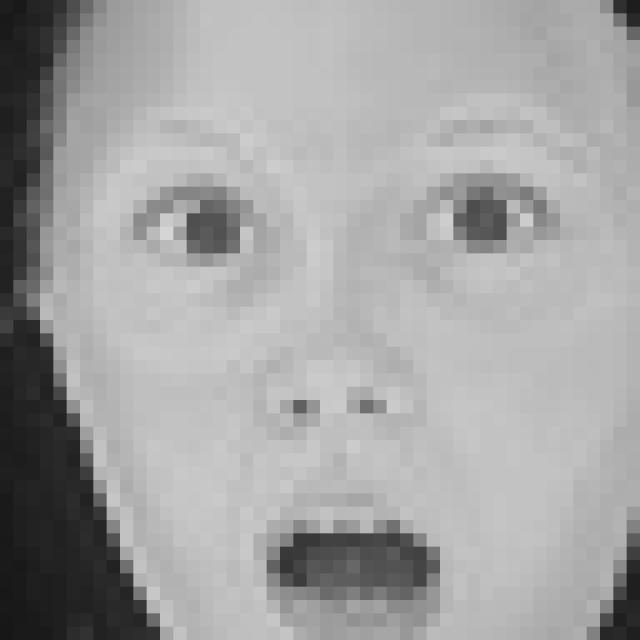surprise: (127, 102, 601, 640)
